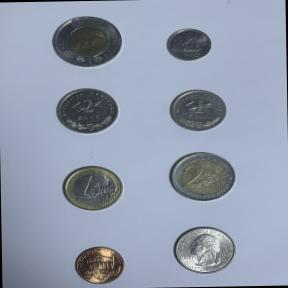1 Euro: (59, 163, 128, 215)
2 Euro: (166, 150, 239, 206)
Canda-10cent-: (164, 26, 216, 64)
Canda-2Dollar-: (48, 13, 125, 71)
Croatia-2Kune-: (52, 85, 122, 138)
US-1cent-: (72, 244, 128, 287)
US-25cent-: (169, 223, 239, 278)
